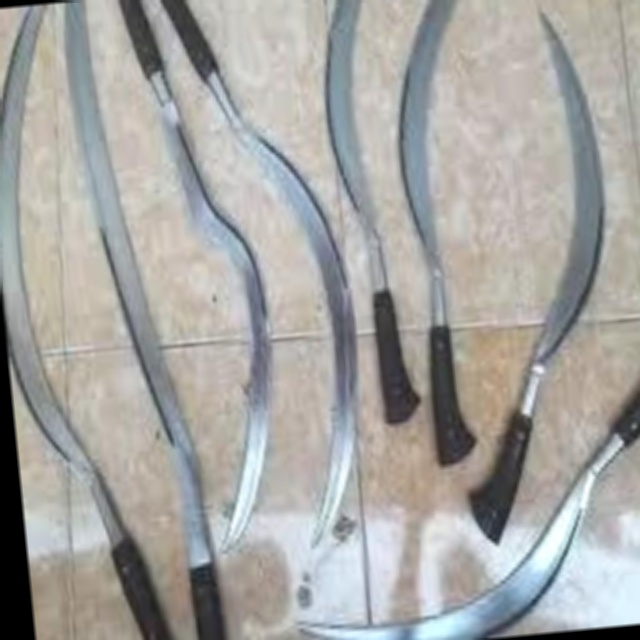Sharp-Object: (145, 0, 376, 589), (407, 2, 640, 548), (270, 331, 640, 640), (0, 0, 175, 640)
